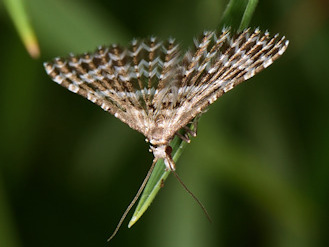Alucitidae: (37, 22, 294, 238)
moth: (39, 24, 296, 240)
